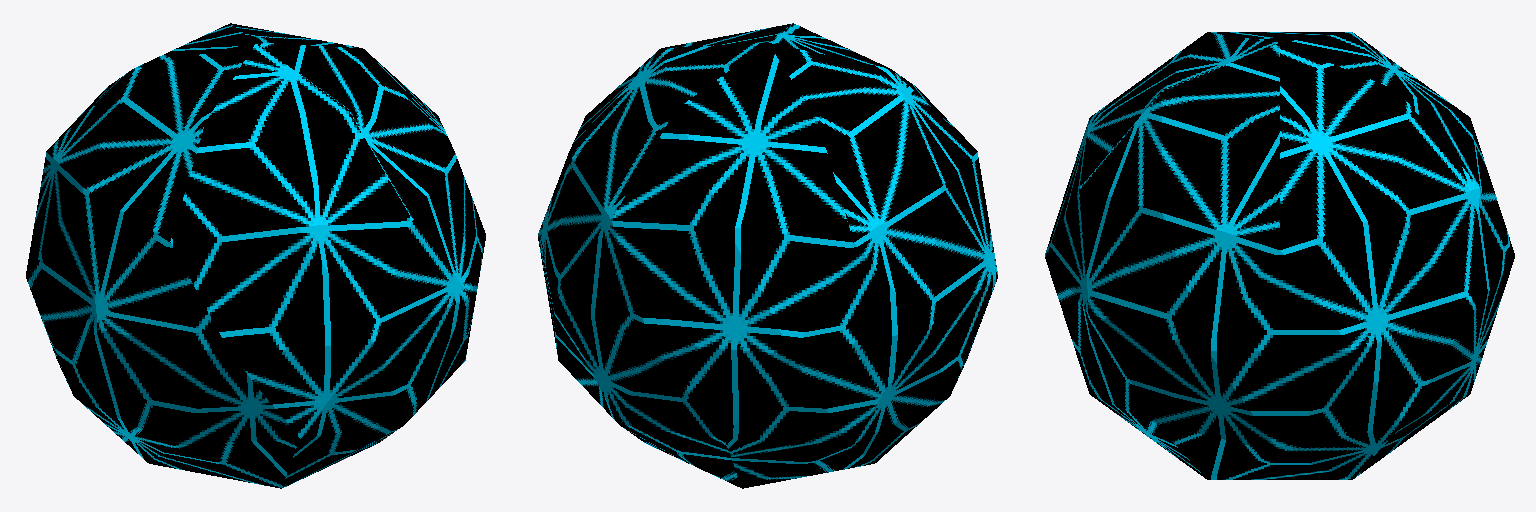
3 views of the same model, side by side, from view 1: azimuth 30°, elevation 25°; view 2: azimuth 150°, elevation 25°; view 3: azimuth 270°, elevation 25° (orthographic).
Parts seen in each view (by area): view 1: ICO球; view 2: ICO球; view 3: ICO球.
Part boxes in pixels (x1,y1,x2,y2): ICO球: (26, 23, 485, 488); ICO球: (538, 23, 997, 488); ICO球: (1045, 32, 1514, 479).
Size of the model in its own units: 1.9 by 2 by 2.
Materials: 1 (1 with a texture image).